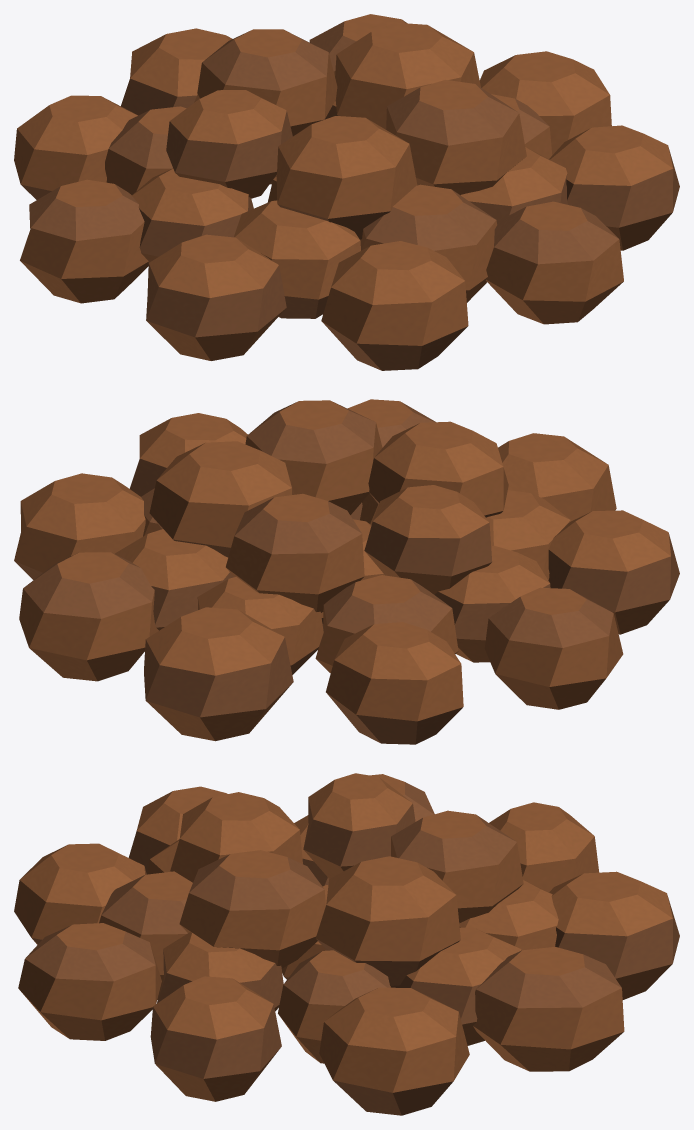
The model's file is 06_DogBowl_FoodOnly.fbx.
The picture shows the model from 3 angles, top to bottom: view 1: azimuth 30°, elevation 25°; view 2: azimuth 150°, elevation 25°; view 3: azimuth 270°, elevation 25°; orthographic projection. The views are drawn at different scales.
Parts seen in each view (by area): view 1: 06_DogBowl_FoodOnly; view 2: 06_DogBowl_FoodOnly; view 3: 06_DogBowl_FoodOnly.
Boxes of the visible parts, x1,y1,x2,y2 form: 06_DogBowl_FoodOnly: [14, 14, 679, 370]; 06_DogBowl_FoodOnly: [14, 399, 679, 744]; 06_DogBowl_FoodOnly: [14, 773, 679, 1115].
Size of the model in its own units: 35.63 by 9.85 by 35.59.
1 material, 1 textured.
